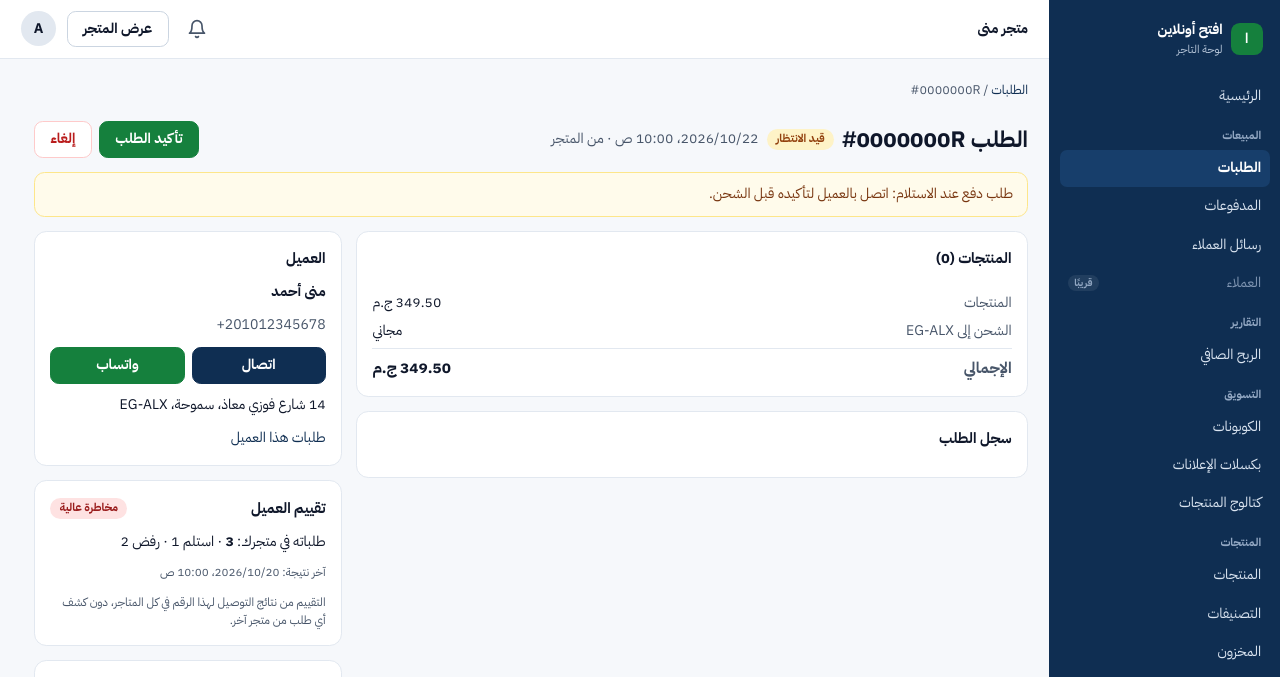
Scenario: customer risk (ADR-0065) › shows the band and the store's own history, and asks why an order is cancelled
This screenshot has width=1280, height=677.
Expected: the element "تقييم العميل" shows "طلباته في متجرك: 3", 34,480 -> 342,646
Expected: the element "تقييم العميل" shows "رفض 2", 34,480 -> 342,646
Click the button "إلغاء".
click(63, 139)  # box 34,121 -> 92,158
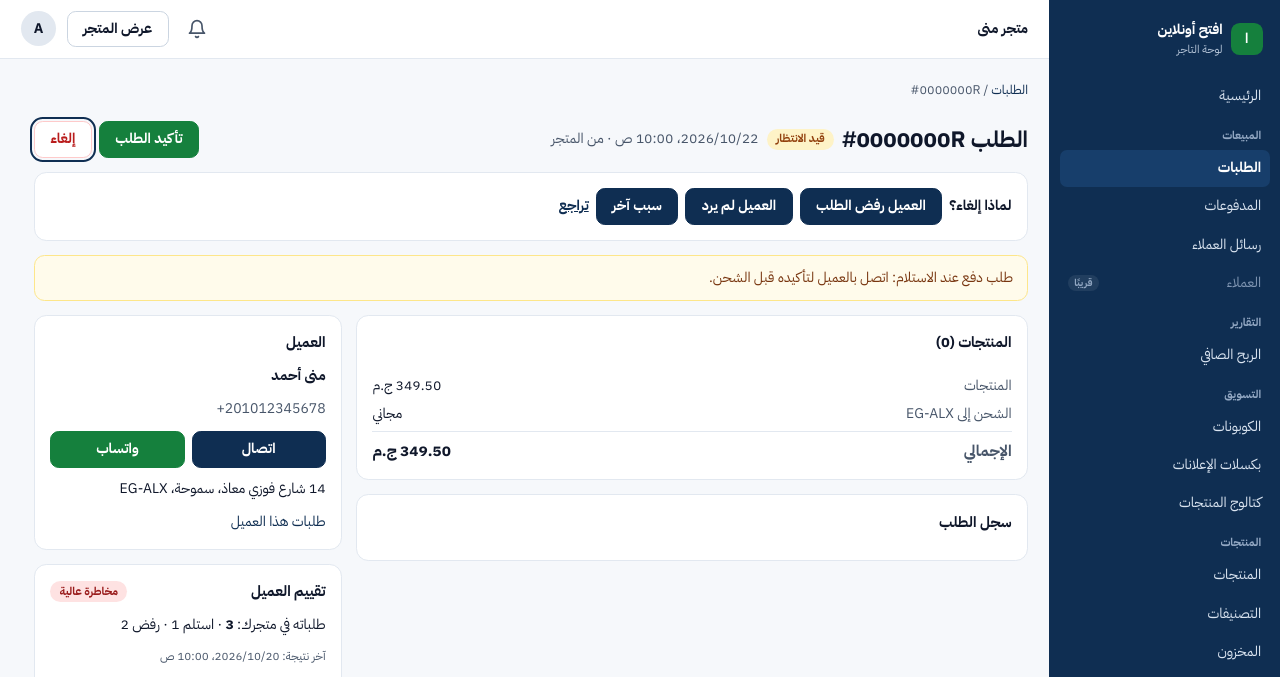
Click the button "العميل رفض الطلب".
click(871, 206)  # box 800,188 -> 942,225
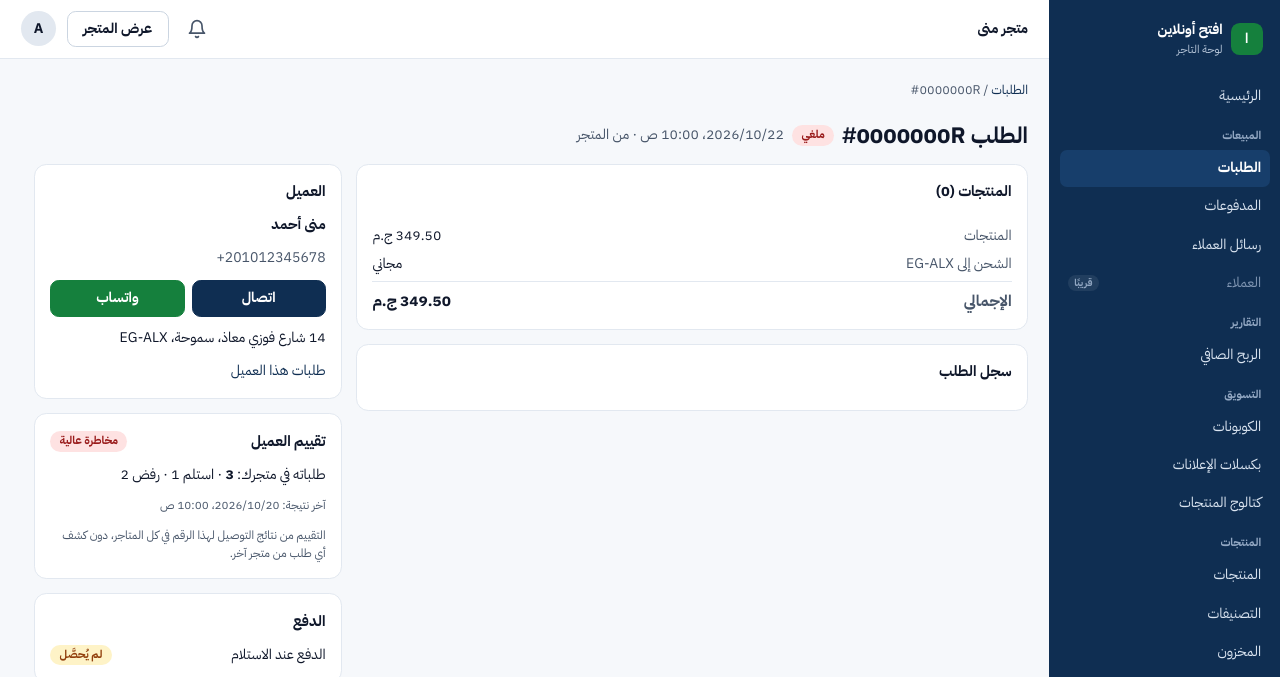
Expected: the text "لماذا" is gone
